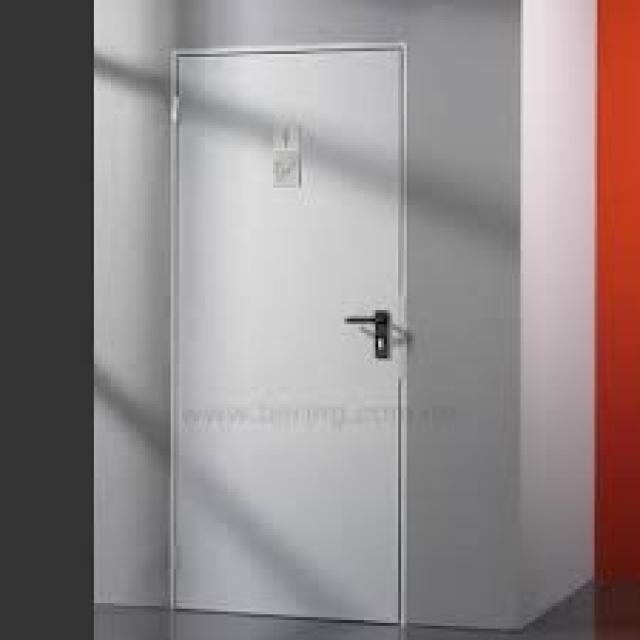door: (169, 42, 408, 626)
